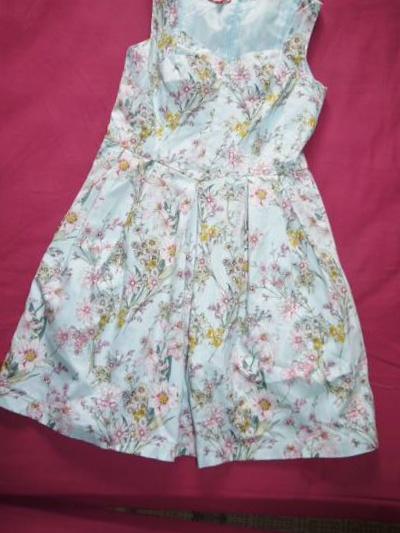Dress: (6, 0, 400, 468)
